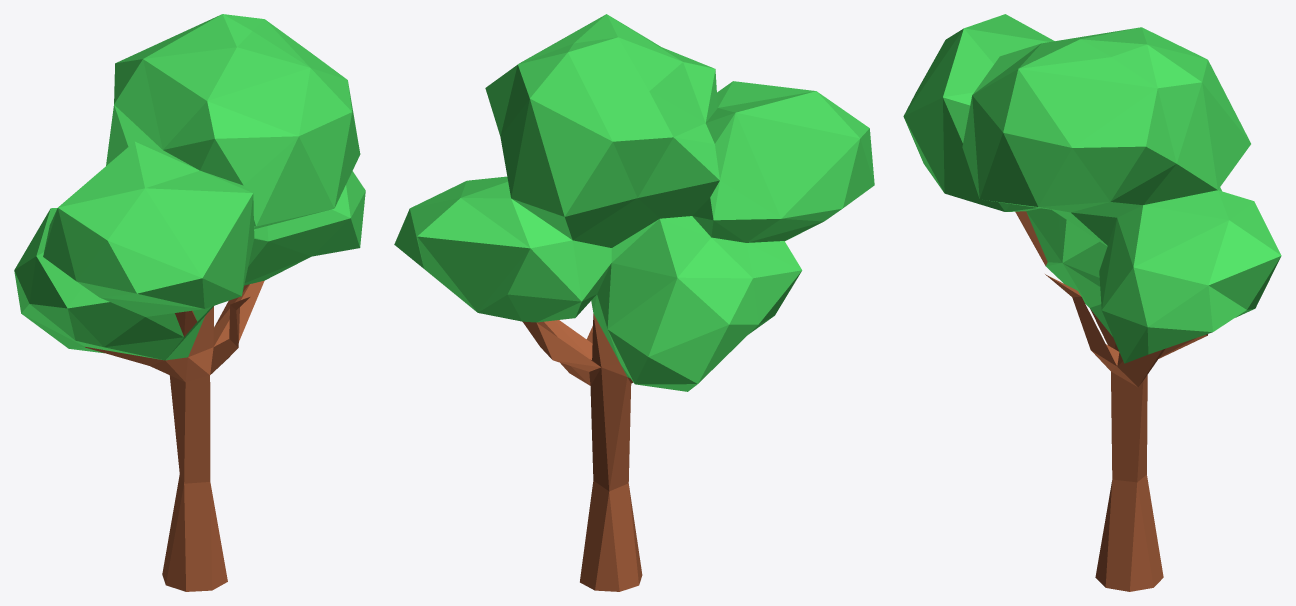
The model's file is Tree_02.fbx.
3 views of the same model, side by side, from view 1: azimuth 30°, elevation 25°; view 2: azimuth 150°, elevation 25°; view 3: azimuth 270°, elevation 25° (orthographic). The views are drawn at different scales.
Visible parts, largest first — view 1: Cylinder; view 2: Cylinder; view 3: Cylinder.
Boxes of the visible parts, bbox=[...] form: Cylinder: bbox=[14, 14, 365, 591]; Cylinder: bbox=[394, 14, 874, 591]; Cylinder: bbox=[903, 14, 1281, 591].
Size of the model in its own units: 412 by 562 by 350.
